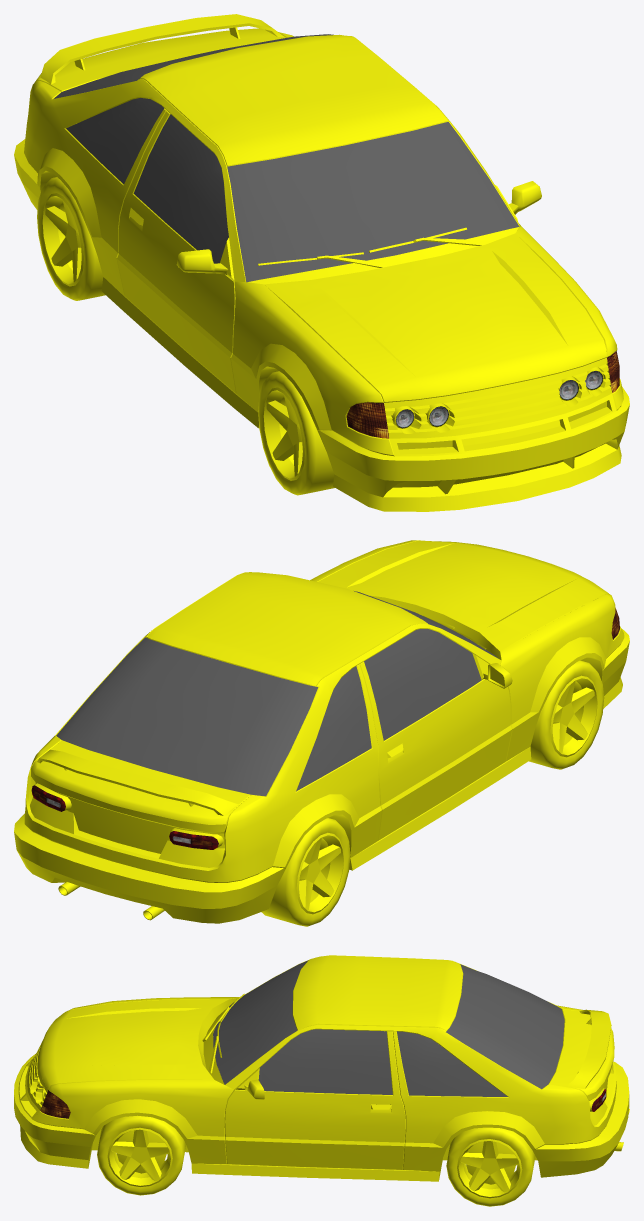
Rendered from pack_coupe.glb.
The picture shows the model from 3 angles, top to bottom: view 1: azimuth 30°, elevation 25°; view 2: azimuth 150°, elevation 25°; view 3: azimuth 270°, elevation 25°; orthographic projection. The views are drawn at different scales.
Visible parts, largest first — view 1: Coupe Body, Wheel_F002, Wheel_F003; view 2: Coupe Body, Wheel_F003, Wheel_F002; view 3: Coupe Body, Wheel_F, Wheel_F001.
Boxes of the visible parts, bbox=[...] form: Coupe Body: bbox=[14, 14, 629, 511]; Wheel_F002: bbox=[258, 371, 334, 495]; Wheel_F003: bbox=[37, 177, 105, 300]; Coupe Body: bbox=[14, 540, 629, 923]; Wheel_F003: bbox=[261, 818, 350, 926]; Wheel_F002: bbox=[529, 660, 604, 769]; Coupe Body: bbox=[14, 955, 629, 1181]; Wheel_F: bbox=[97, 1115, 185, 1195]; Wheel_F001: bbox=[446, 1127, 535, 1206].
Bounding box in the file's own units: 2.12 × 1.44 × 4.77.
Materials: 3 (1 with a texture image).
